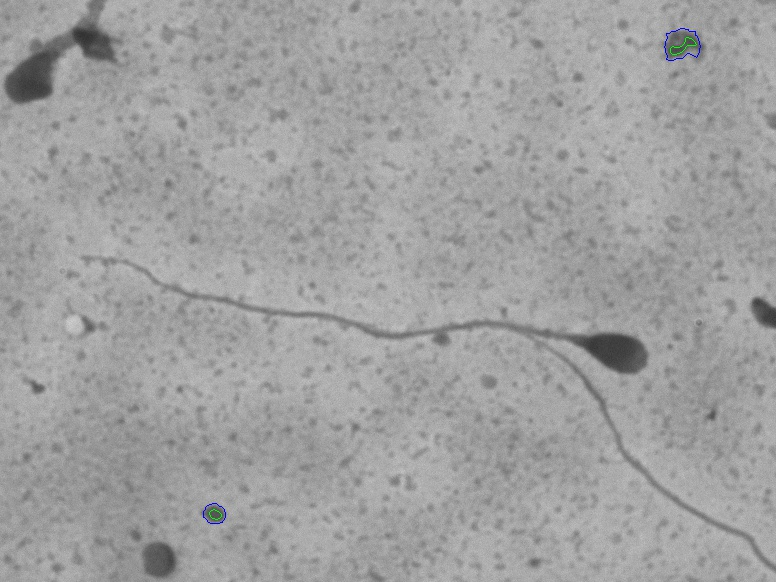Normal: (77, 217, 668, 386)
